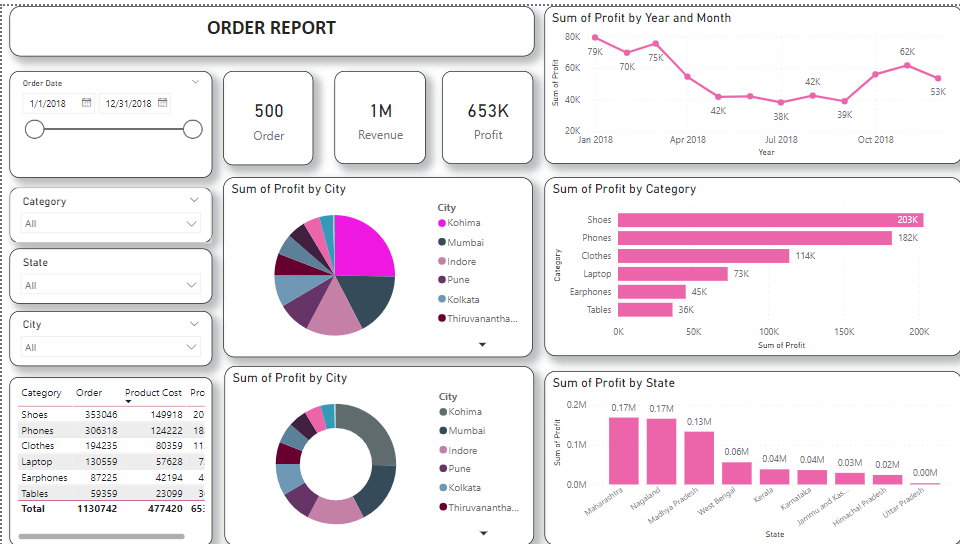

Layout of this report page (visuals, bound fields, positions):
{"tool":"powerbi","page":{"name":"Page 1","canvas":[1280,720],"ordinal":0},"visuals":[{"type":"textbox","box":[10,0,700,67.1],"z":0},{"type":"card","fields":{"Values":["CountNonNull(Orders.Order ID)"]},"box":[295.7,87.1,120,125.7],"z":1000},{"type":"card","fields":{"Values":["Sum(Orders.order_total)"]},"box":[442.9,87.1,121.4,124.3],"z":2000},{"type":"card","fields":{"Values":["Sum(Orders.Profit)"]},"box":[587.1,87.1,121.4,124.3],"z":3000},{"type":"tableEx","fields":{"Values":["Orders.Category","Sum(Orders.order_total)","Sum(Orders.Product cost)","Sum(Orders.Profit)"]},"box":[10,495,270,225],"z":4000},{"type":"lineChart","fields":{"Category":["Orders.Order Date.Variation.Date Hierarchy.Year","Orders.Order Date.Variation.Date Hierarchy.Month"],"Y":["Sum(Orders.Profit)"]},"box":[722.9,0,557.1,210],"z":5000},{"type":"clusteredBarChart","fields":{"Y":["Sum(Orders.Profit)"],"Category":["Orders.Category"]},"box":[722.9,228.6,557.1,238.6],"z":6000},{"type":"clusteredColumnChart","fields":{"Y":["Sum(Orders.Profit)"],"Category":["Orders.State"]},"box":[722.9,487.1,557.1,232.9],"z":6001},{"type":"pieChart","fields":{"Category":["Orders.City"],"Y":["Sum(Orders.Profit)"]},"box":[295.7,228.6,412.9,240],"z":6002},{"type":"donutChart","fields":{"Category":["Orders.City"],"Y":["Sum(Orders.Profit)"]},"box":[297.1,480,412.9,240],"z":6003},{"type":"slicer","fields":{"Values":["Orders.Order Date"]},"box":[10,87,270,142],"z":6004},{"type":"slicer","fields":{"Values":["Orders.Category"]},"box":[10,241.7,270,74.2],"z":6005},{"type":"slicer","fields":{"Values":["Orders.State"]},"box":[10,323.3,270,73.3],"z":6006},{"type":"slicer","fields":{"Values":["Orders.City"]},"box":[10,406.7,270,73.3],"z":6007}]}

Visuals, with their boxes in screenshot pixels (x1, y1, x2, y2), scaled from the page's 1280x720 canvas onto the 960x544 screenshot:
textbox: (x1=8, y1=0, x2=532, y2=51)
card - CountNonNull(Orders.Order ID): (x1=222, y1=66, x2=312, y2=161)
card - Sum(Orders.order_total): (x1=332, y1=66, x2=423, y2=160)
card - Sum(Orders.Profit): (x1=440, y1=66, x2=531, y2=160)
tableEx - Orders.Category x Sum(Orders.order_total): (x1=8, y1=374, x2=210, y2=543)
lineChart - Orders.Order Date.Variation.Date Hierarchy.Year x Orders.Order Date.Variation.Date Hierarchy.Month: (x1=542, y1=0, x2=959, y2=159)
clusteredBarChart - Sum(Orders.Profit) x Orders.Category: (x1=542, y1=173, x2=959, y2=353)
clusteredColumnChart - Sum(Orders.Profit) x Orders.State: (x1=542, y1=368, x2=959, y2=543)
pieChart - Orders.City x Sum(Orders.Profit): (x1=222, y1=173, x2=531, y2=354)
donutChart - Orders.City x Sum(Orders.Profit): (x1=223, y1=363, x2=532, y2=543)
slicer - Orders.Order Date: (x1=8, y1=66, x2=210, y2=173)
slicer - Orders.Category: (x1=8, y1=183, x2=210, y2=239)
slicer - Orders.State: (x1=8, y1=244, x2=210, y2=300)
slicer - Orders.City: (x1=8, y1=307, x2=210, y2=363)
